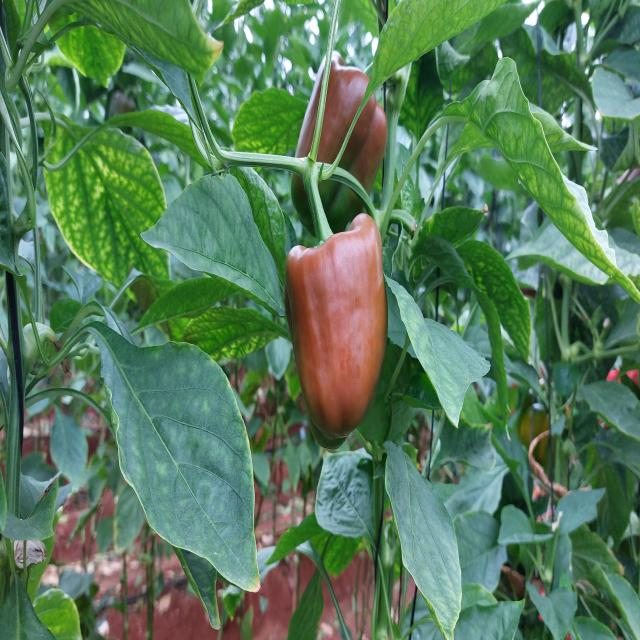BrownishRed--Can-be-Harvested: (292, 245, 388, 428), (306, 71, 383, 219)
